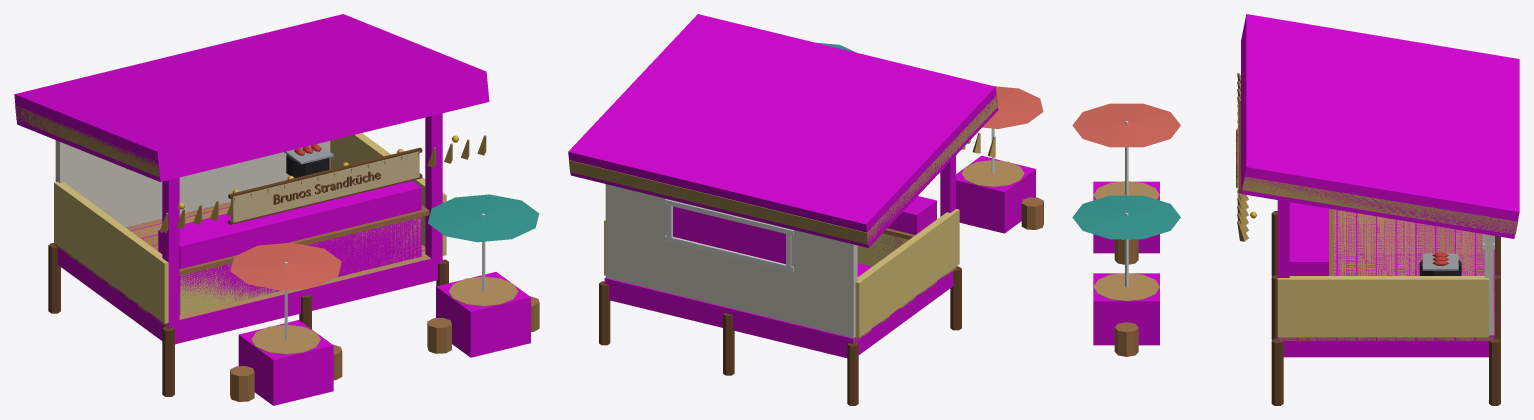
The model's file is beach_shack.glb.
The picture shows the model from 3 angles, left to right: view 1: azimuth 30°, elevation 25°; view 2: azimuth 150°, elevation 25°; view 3: azimuth 270°, elevation 25°; orthographic projection. The views are drawn at different scales.
Parts seen in each view (by area): view 1: COL_beach_shack, beach_shack, COLP_beach_shack; view 2: COL_beach_shack, beach_shack, COLP_beach_shack; view 3: COL_beach_shack, beach_shack, COLP_beach_shack.
Boxes of the visible parts, left/top/right/bottom form: COL_beach_shack: left=14, top=14, right=530, bottom=405; beach_shack: left=15, top=105, right=539, bottom=401; COLP_beach_shack: left=162, top=113, right=442, bottom=322; COL_beach_shack: left=568, top=14, right=1035, bottom=357; beach_shack: left=569, top=42, right=1043, bottom=405; COLP_beach_shack: left=940, top=156, right=955, bottom=216; COL_beach_shack: left=1093, top=14, right=1519, bottom=357; beach_shack: left=1072, top=73, right=1518, bottom=405; COLP_beach_shack: left=1277, top=200, right=1289, bottom=277.
Bounding box in the file's own units: 6 × 4.56 × 7.41.
